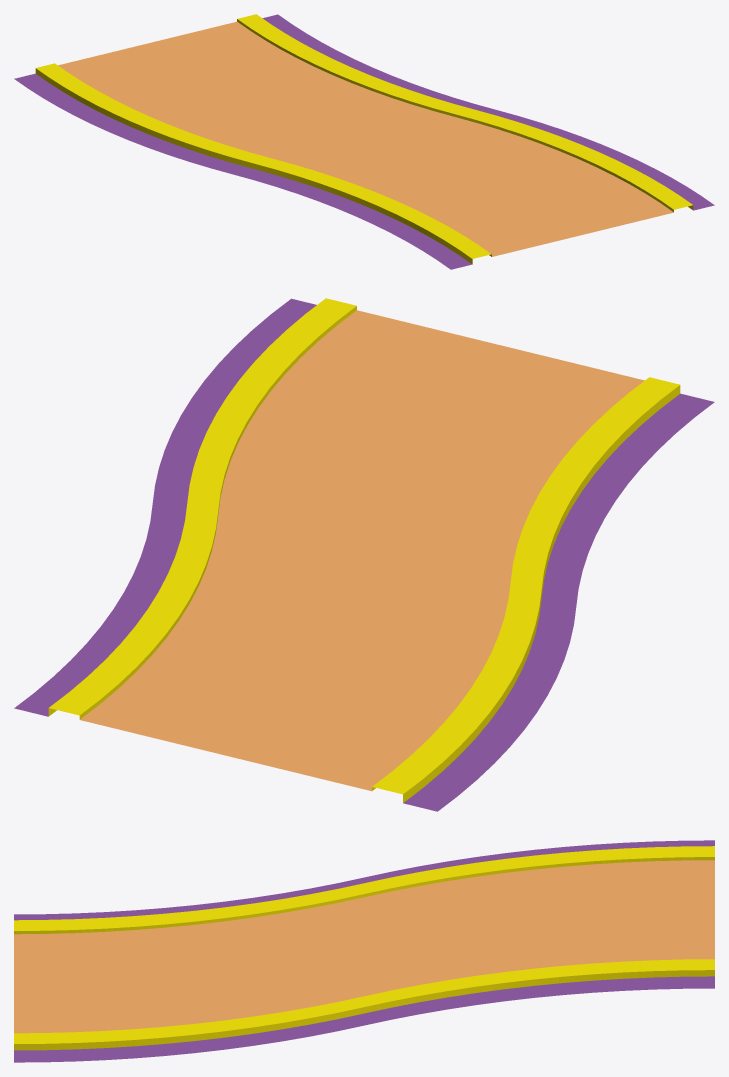
Rendered from roadCurved.glb.
The picture shows the model from 3 angles, top to bottom: view 1: azimuth 30°, elevation 25°; view 2: azimuth 150°, elevation 25°; view 3: azimuth 270°, elevation 25°; orthographic projection. The views are drawn at different scales.
Visible parts, largest first — view 1: roadCurved(Clone); view 2: roadCurved(Clone); view 3: roadCurved(Clone).
Part boxes in pixels (x1,y1,x2,y2): roadCurved(Clone): (14,14,714,269); roadCurved(Clone): (14,298,714,811); roadCurved(Clone): (14,840,714,1062).
Size of the model in its own units: 1.5 by 0.02 by 2.
